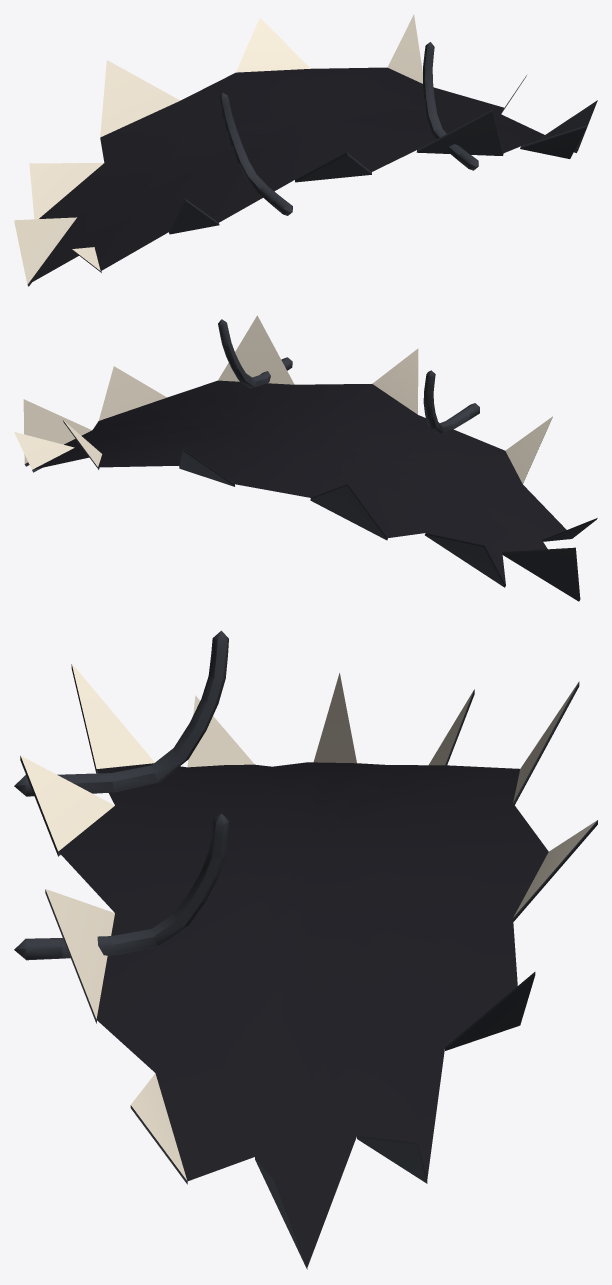
Rendered from RotTechoRoto.fbx.
3 views of the same model, one above another, from view 1: azimuth 30°, elevation 25°; view 2: azimuth 150°, elevation 25°; view 3: azimuth 270°, elevation 25° (orthographic). The views are drawn at different scales.
Parts seen in each view (by area): view 1: RotTechoRoto; view 2: RotTechoRoto; view 3: RotTechoRoto.
Part boxes in pixels (x1,y1,x2,y2): RotTechoRoto: (14, 14, 597, 286); RotTechoRoto: (14, 315, 597, 601); RotTechoRoto: (14, 630, 597, 1269).
Bounding box in the file's own units: 10.88 × 3.13 × 5.39.
1 material, 1 textured.
